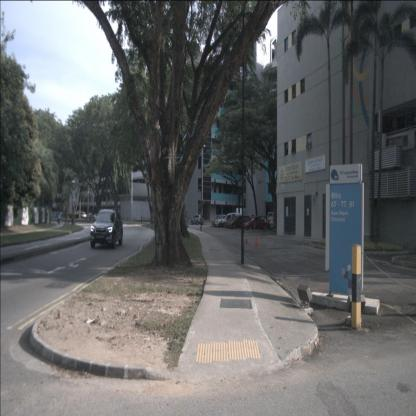cone: (254, 234, 259, 248), (244, 232, 248, 245)
